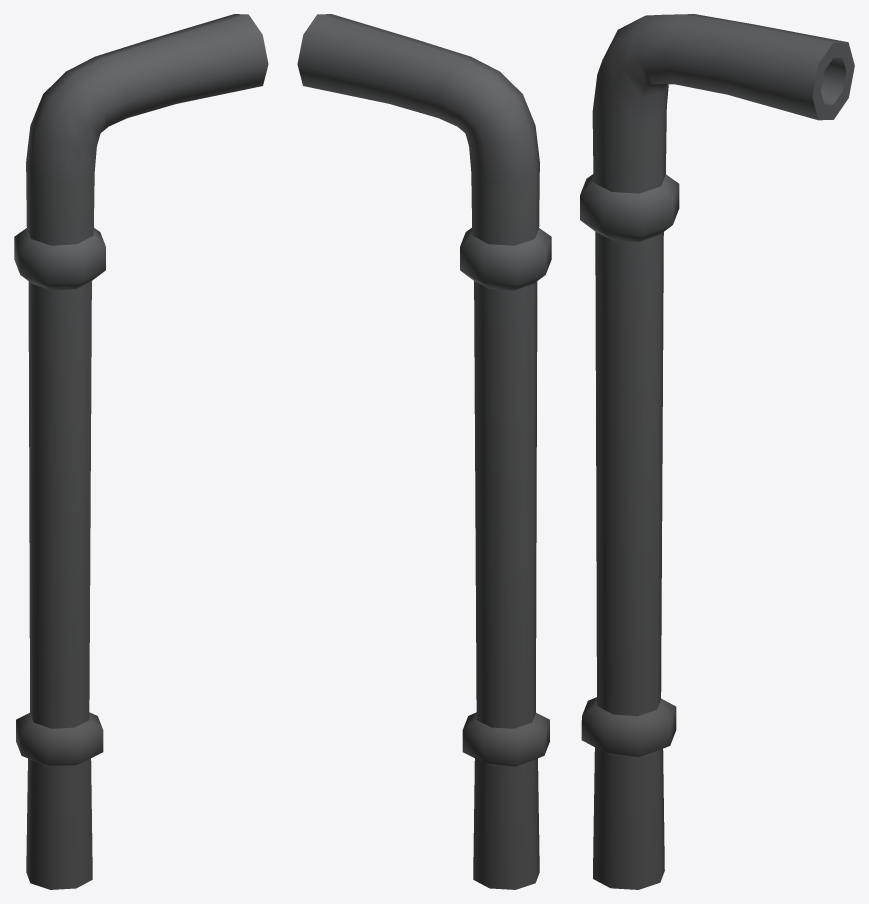
The model's file is Pipe.fbx.
3 views of the same model, side by side, from view 1: azimuth 30°, elevation 25°; view 2: azimuth 150°, elevation 25°; view 3: azimuth 330°, elevation 25° (orthographic). The views are drawn at different scales.
Visible parts, largest first — view 1: Pipe; view 2: Pipe; view 3: Pipe.
Boxes of the visible parts, x1=… form: Pipe: x1=14, y1=14, x2=268, y2=889; Pipe: x1=297, y1=14, x2=551, y2=889; Pipe: x1=580, y1=14, x2=854, y2=889.
Bounding box in the file's own units: 22.67 × 7.97 × 77.19.
